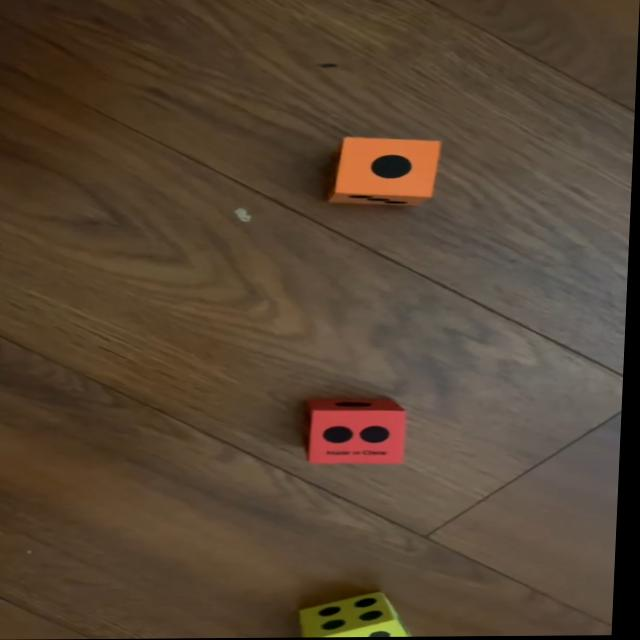red_block: (309, 400, 410, 467)
